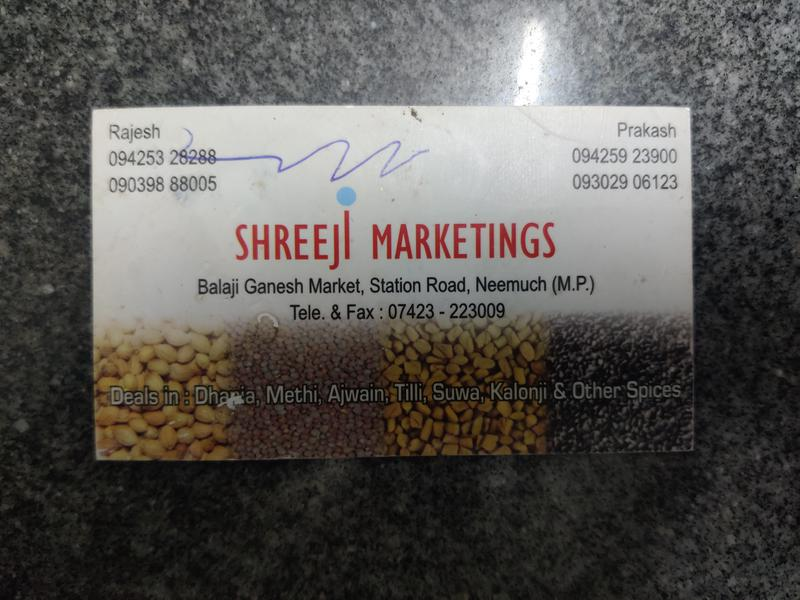card: (88, 108, 692, 457)
